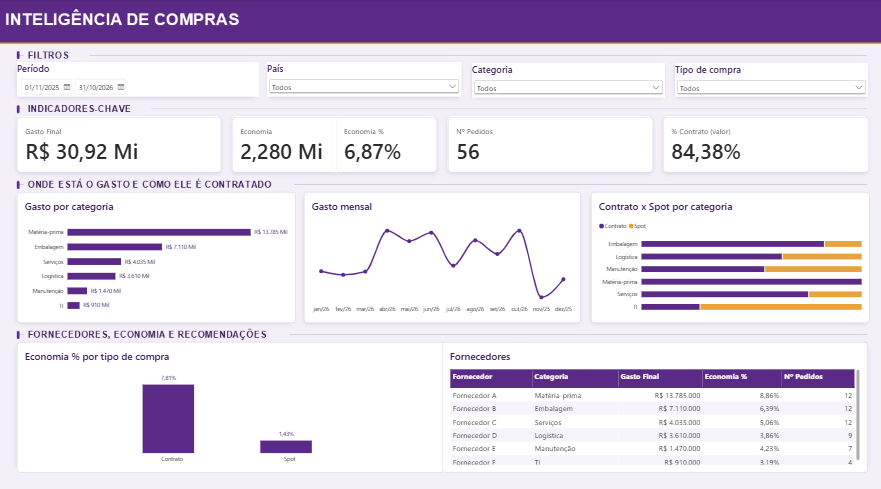

The page's visual inventory and layout, read from the dashboard file:
{"tool":"powerbi","page":{"name":"Página 1","canvas":[1920,1080],"ordinal":0},"visuals":[{"type":"slicer","title":"Período","fields":{"Values":["dCalendario.Date"]},"box":[40,138.3,521.7,75],"z":0},{"type":"slicer","title":"País","fields":{"Values":["fCompras.Pais"]},"box":[580,138.3,420,75],"z":1000},{"type":"slicer","title":"Categoria","fields":{"Values":["fCompras.Categoria"]},"box":[1023,140,416.7,75],"z":2000},{"type":"slicer","title":"Tipo de compra","fields":{"Values":["fCompras.Tipo_Compra"]},"box":[1461.7,140,416.7,73.3],"z":3000},{"type":"cardVisual","fields":{"Data":["Medidas.Gasto Final"]},"box":[40,256.7,441.7,120],"z":4000},{"type":"cardVisual","fields":{"Data":["Medidas.% Contrato (valor)"]},"box":[1436.7,256.7,445,120],"z":6000},{"type":"cardVisual","title":"eco","fields":{"Data":["Medidas.Economia USD","Medidas.Economia %"]},"box":[505,256.7,443.3,120],"z":6500},{"type":"cardVisual","fields":{"Data":["Medidas.Nº Pedidos"]},"box":[971.7,256.7,443.3,120],"z":7000},{"type":"barChart","title":"Gasto por categoria","fields":{"Category":["fCompras.Categoria"],"Y":["Medidas.Gasto Final"]},"box":[40,420,601.7,283.3],"z":8000},{"type":"lineChart","title":"Gasto mensal","fields":{"Category":["dCalendario.Mes"],"Y":["Medidas.Gasto Final"]},"box":[660,420,598.3,283.3],"z":9000},{"type":"hundredPercentStackedBarChart","title":"Contrato x Spot por categoria","fields":{"Category":["fCompras.Categoria"],"Series":["fCompras.Tipo_Compra"],"Y":["Medidas.Gasto Final"]},"box":[1280,420,601.7,283.3],"z":10000},{"type":"columnChart","title":"Economia % por tipo de compra","fields":{"Category":["fCompras.Tipo_Compra"],"Y":["Medidas.Economia %"]},"box":[40,742,924,282],"z":11000},{"type":"tableEx","title":"Fornecedores","fields":{"Values":["fCompras.Fornecedor","fCompras.Categoria","Medidas.Gasto Final","Medidas.Economia %","Medidas.Nº Pedidos"]},"box":[960,742,920,282],"z":12000}]}

Visuals, with their boxes in screenshot pixels (x1, y1, x2, y2), scaled from the page's 1920x1080 canvas onto the 881x489 screenshot:
"Período" slicer: <bbox>18, 63, 258, 97</bbox>
"País" slicer: <bbox>266, 63, 459, 97</bbox>
"Categoria" slicer: <bbox>469, 63, 661, 97</bbox>
"Tipo de compra" slicer: <bbox>671, 63, 862, 97</bbox>
cardVisual - Medidas.Gasto Final: <bbox>18, 116, 221, 171</bbox>
cardVisual - Medidas.% Contrato (valor): <bbox>659, 116, 863, 171</bbox>
"eco" cardVisual: <bbox>232, 116, 435, 171</bbox>
cardVisual - Medidas.Nº Pedidos: <bbox>446, 116, 649, 171</bbox>
"Gasto por categoria" barChart: <bbox>18, 190, 294, 318</bbox>
"Gasto mensal" lineChart: <bbox>303, 190, 577, 318</bbox>
"Contrato x Spot por categoria" hundredPercentStackedBarChart: <bbox>587, 190, 863, 318</bbox>
"Economia % por tipo de compra" columnChart: <bbox>18, 336, 442, 464</bbox>
"Fornecedores" tableEx: <bbox>440, 336, 863, 464</bbox>
